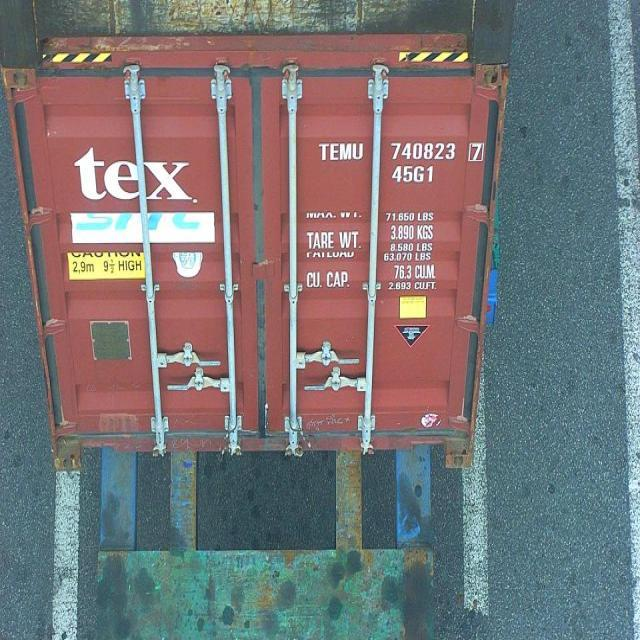ISO: (390, 164, 436, 184)
container_number: (326, 141, 478, 163)
